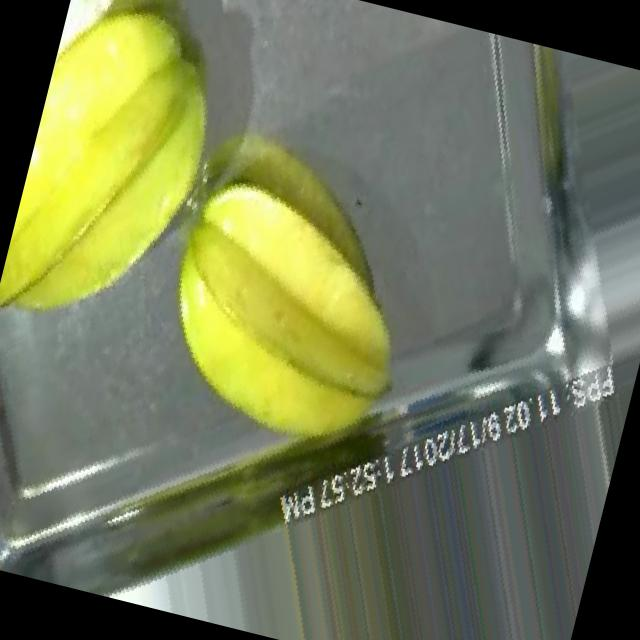fruit: (63, 108, 470, 521), (0, 0, 276, 393)
